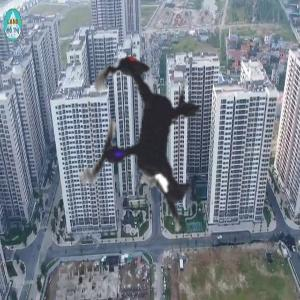drone: (8, 4, 277, 273)
